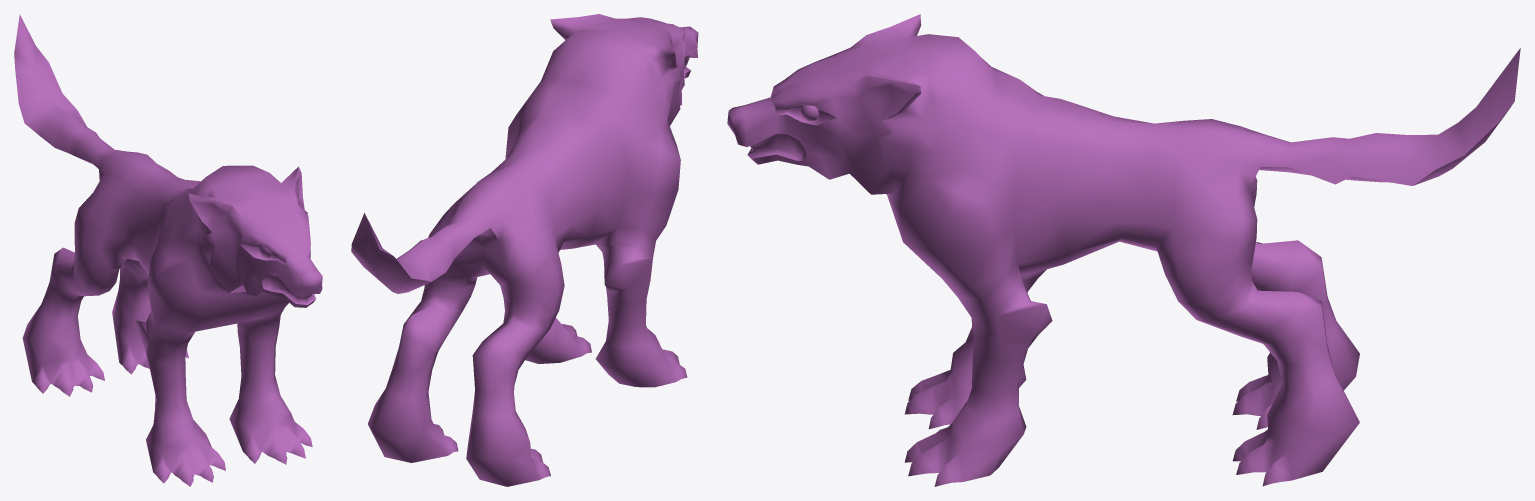
3 views of the same model, side by side, from view 1: azimuth 30°, elevation 25°; view 2: azimuth 150°, elevation 25°; view 3: azimuth 270°, elevation 25° (orthographic). The views are drawn at different scales.
Visible parts, largest first — view 1: EW; view 2: EW; view 3: EW.
Boxes of the visible parts, x1,y1,x2,y2 form: EW: [14, 14, 322, 486]; EW: [351, 14, 698, 486]; EW: [727, 14, 1520, 486].
Bounding box in the file's own units: 184 × 338 × 620.
